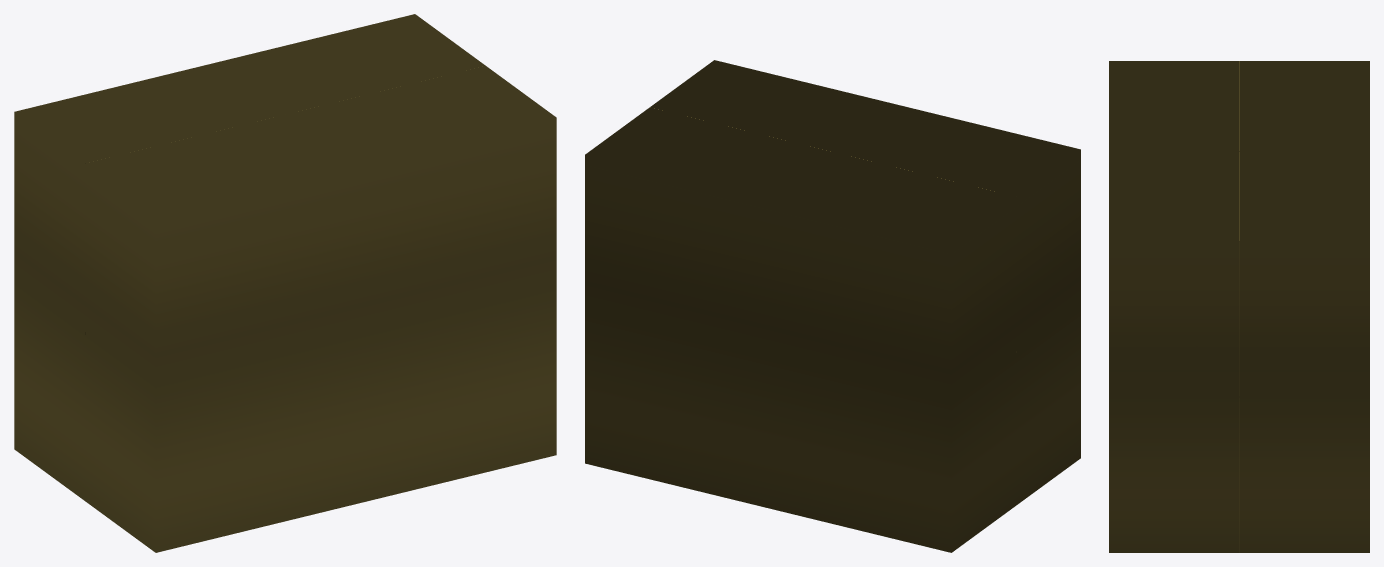
File: prop_generator_diesel_a.glb
3 renders of one model, left to right at view 1: azimuth 30°, elevation 25°; view 2: azimuth 150°, elevation 25°; view 3: azimuth 270°, elevation 25°, orthographic. The views are drawn at different scales.
Parts seen in each view (by area): view 1: prop_generator_diesel_a; view 2: prop_generator_diesel_a; view 3: prop_generator_diesel_a.
Boxes of the visible parts, x1,y1,x2,y2 form: prop_generator_diesel_a: (14,14,556,552); prop_generator_diesel_a: (585,60,1080,552); prop_generator_diesel_a: (1109,61,1369,552).
Size of the model in its own units: 1.8 by 1.77 by 1.1.
1 material, 1 textured.
